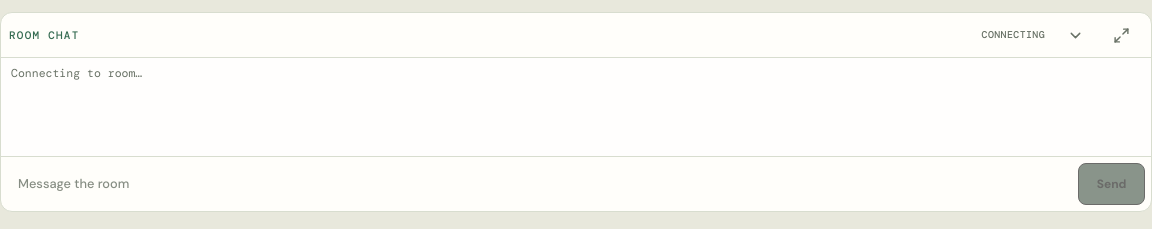
Test: RoomChatPanel message polling › rejects a send explicitly when the server returns a client error
The image size is (1152, 229).
Type "A very long message." into the field labelled "Message the room" at (540,184), box [7,163,1072,205]
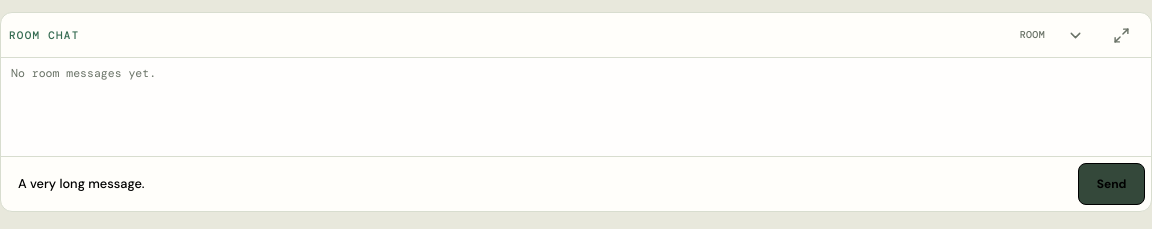
Submit the form named "Message the room", box [1,156,1151,211]
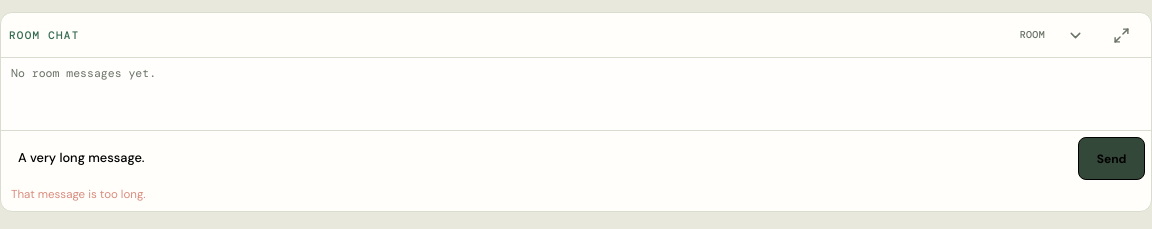
Check: the text "That message is too long." is shown, box [11,187,146,202]
